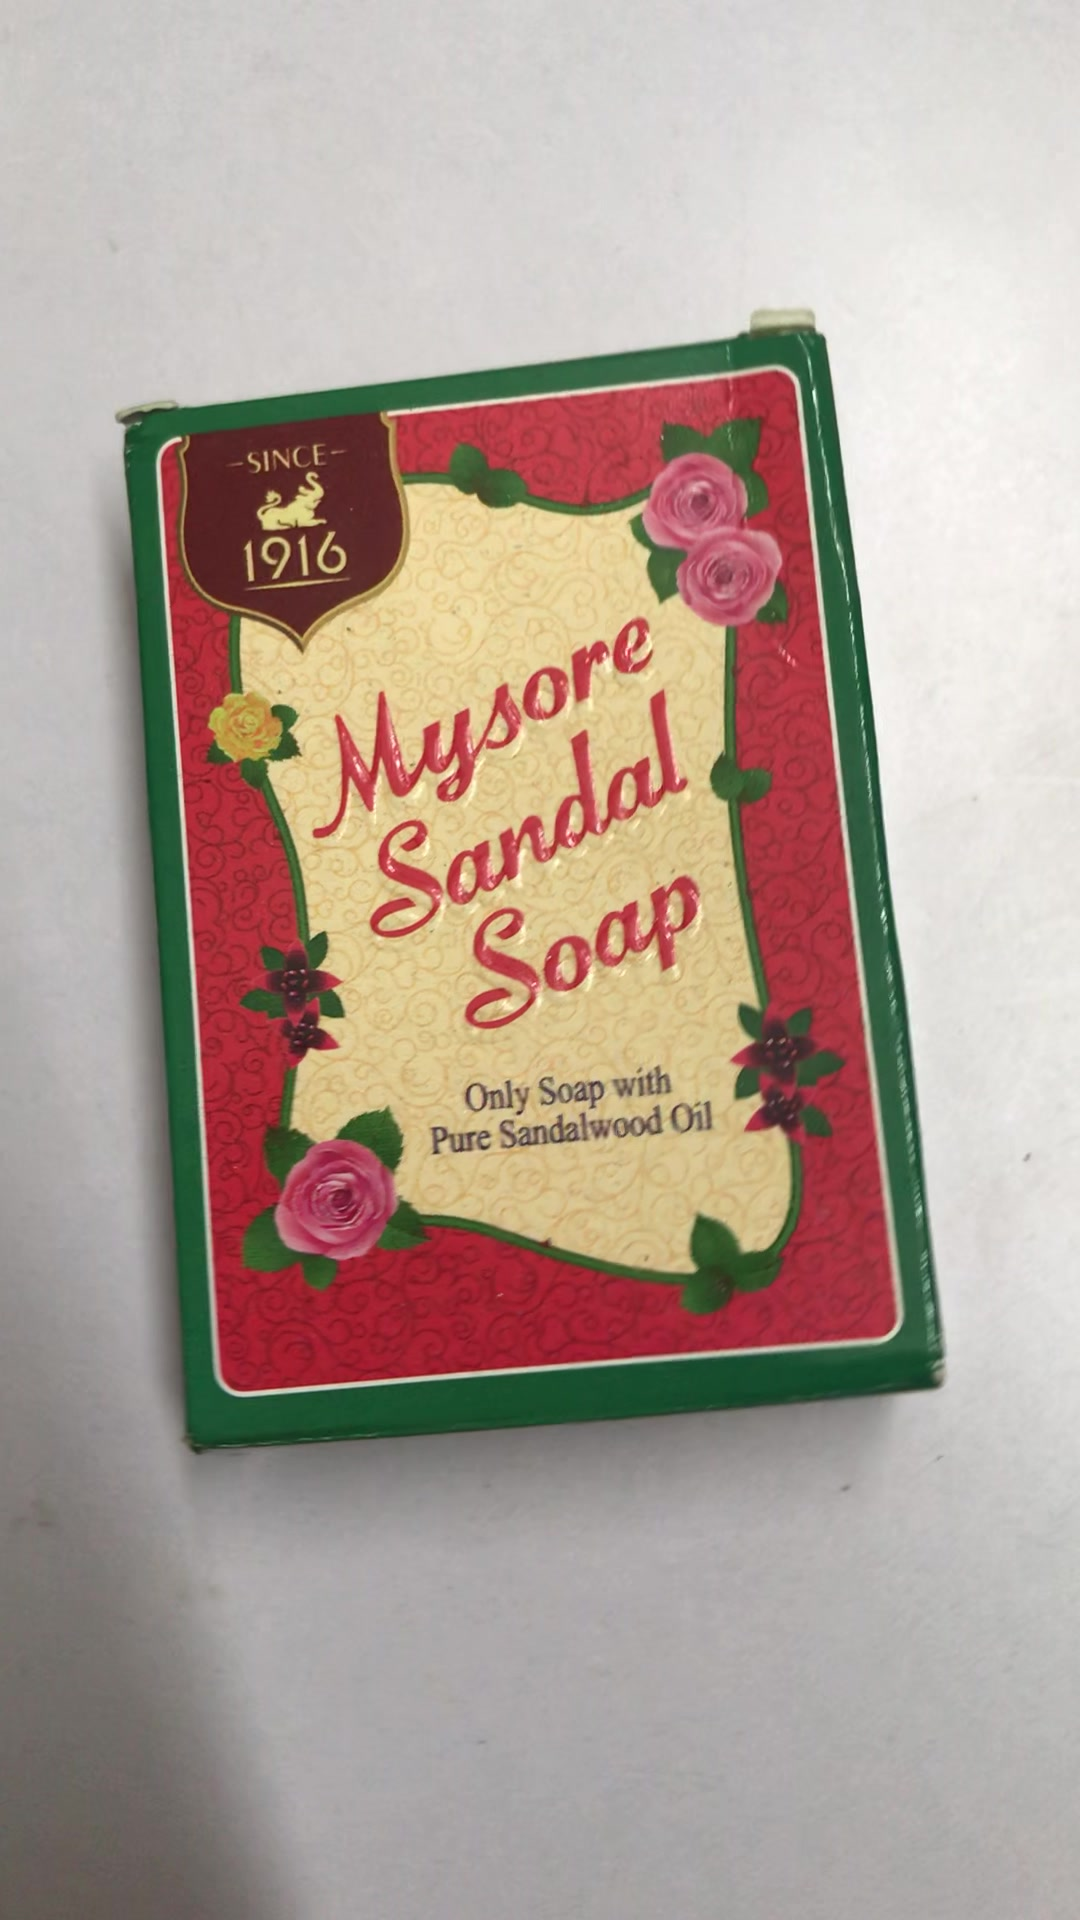mysore sandal soap: (113, 320, 955, 1455)
